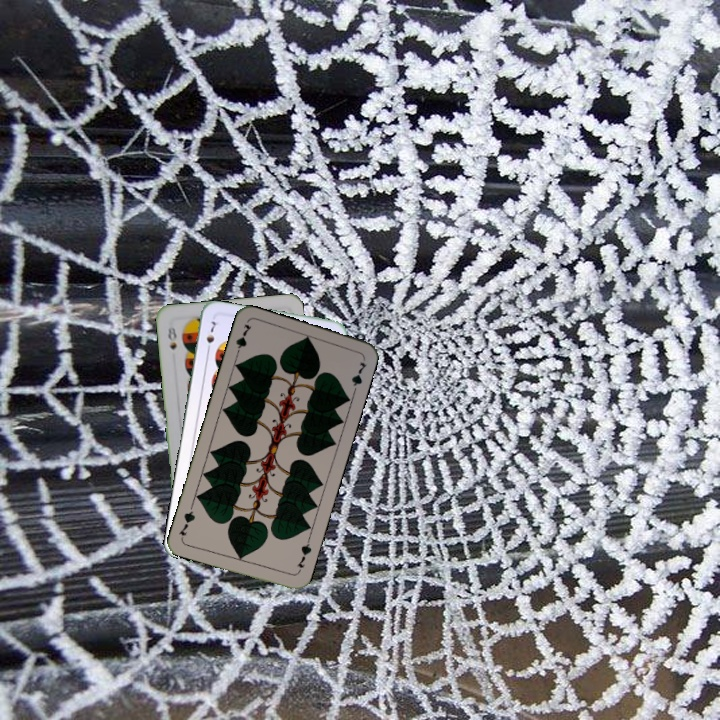G7: (232, 320, 254, 359), (293, 536, 314, 575)
S7: (202, 317, 218, 355)
S8: (164, 323, 179, 352)
